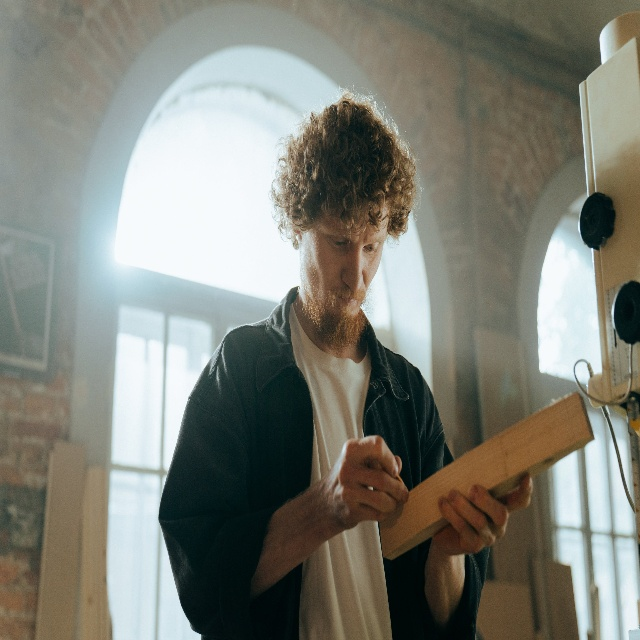Sin_guantes: (435, 470, 534, 556), (327, 433, 409, 530)
